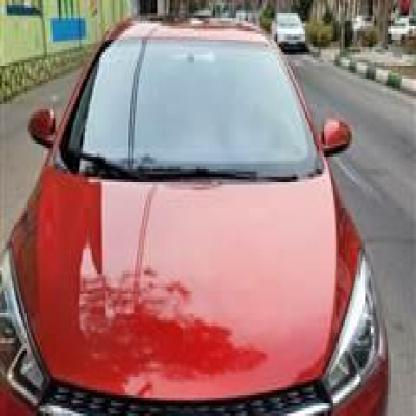Car: (0, 26, 392, 416), (272, 13, 317, 55)
